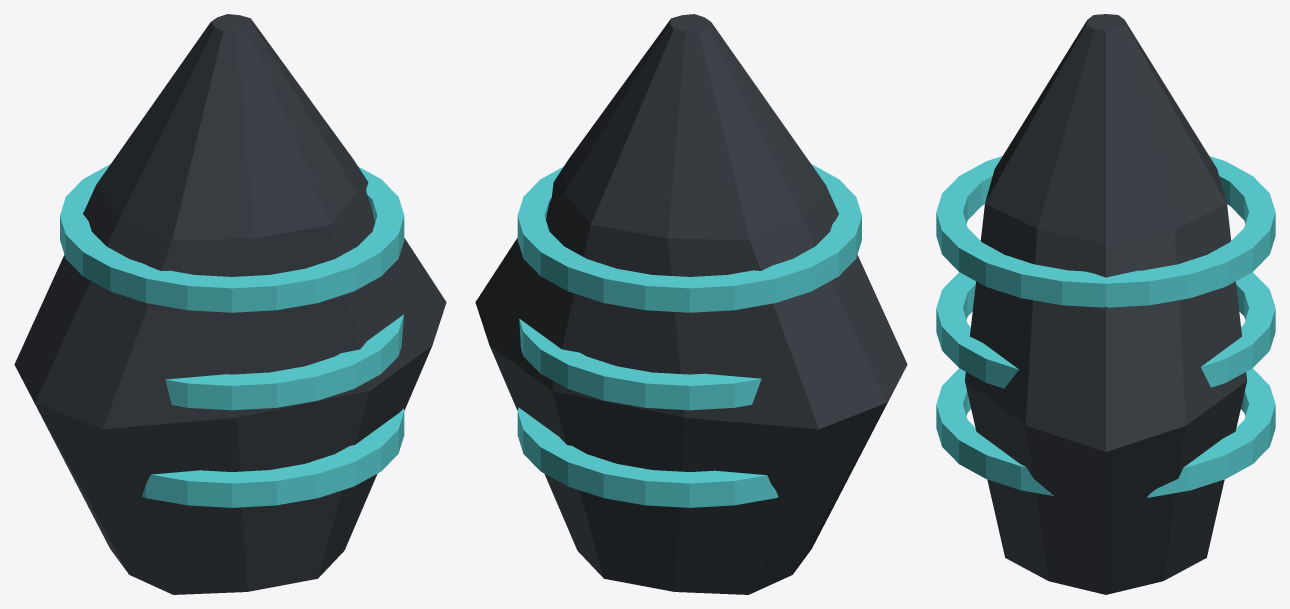
Rendered from quiet_heart.fbx.
3 views of the same model, side by side, from view 1: azimuth 30°, elevation 25°; view 2: azimuth 150°, elevation 25°; view 3: azimuth 270°, elevation 25° (orthographic).
Parts seen in each view (by area): view 1: quiet_relic, relic_circuit_2, relic_circuit_0, relic_circuit_1; view 2: quiet_relic, relic_circuit_2, relic_circuit_0, relic_circuit_1; view 3: quiet_relic, relic_circuit_2, relic_circuit_0, relic_circuit_1.
Part boxes in pixels (x1,y1,x2,y2): quiet_relic: (14,14,446,594); relic_circuit_2: (60,164,404,312); relic_circuit_0: (142,408,404,507); relic_circuit_1: (165,314,403,410); quiet_relic: (475,14,907,594); relic_circuit_2: (517,164,861,312); relic_circuit_0: (517,407,778,507); relic_circuit_1: (519,319,761,410); quiet_relic: (965,14,1246,594); relic_circuit_2: (936,156,1275,307); relic_circuit_0: (936,368,1275,497); relic_circuit_1: (936,272,1275,388).
Bounding box in the file's own units: 44.16 × 54 × 32.
